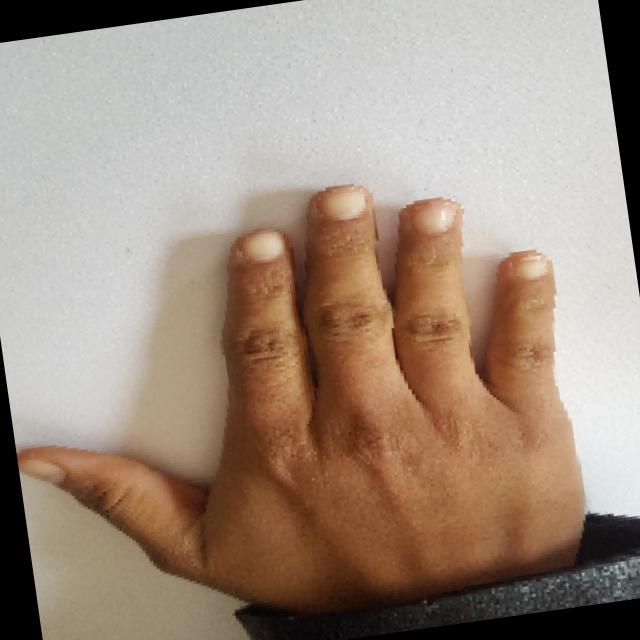Nail: (411, 197, 456, 234), (319, 184, 365, 220), (17, 457, 65, 484), (241, 229, 283, 259), (513, 254, 548, 279)
